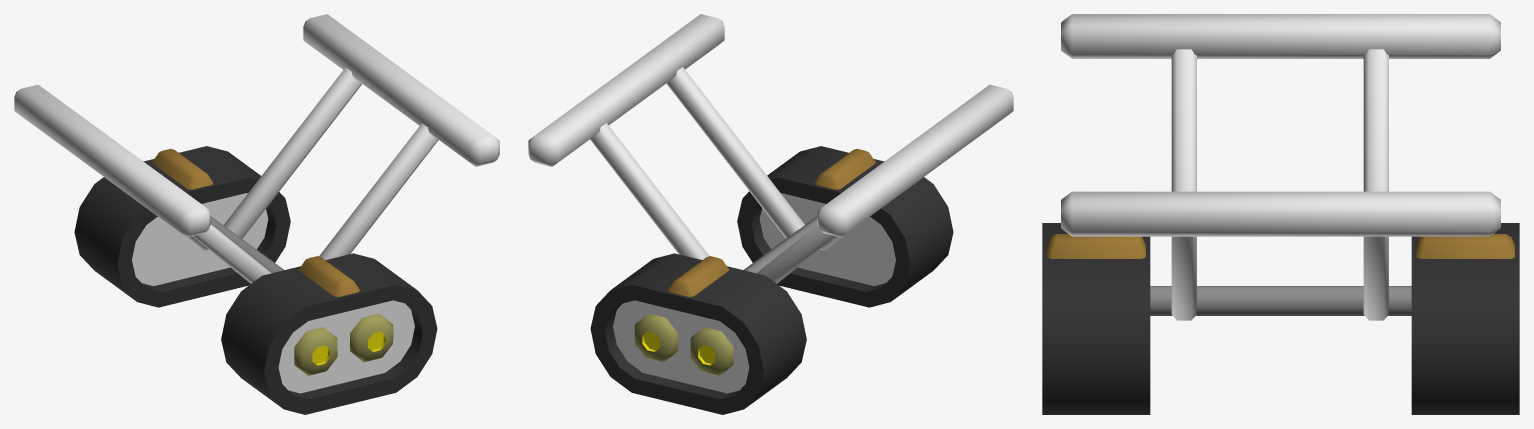
Rendered from caterpillar_1.fbx.
3 views of the same model, side by side, from view 1: azimuth 30°, elevation 25°; view 2: azimuth 150°, elevation 25°; view 3: azimuth 270°, elevation 25° (orthographic). The views are drawn at different scales.
Visible parts, largest first — view 1: caterpillar_1; view 2: caterpillar_1; view 3: caterpillar_1.
Boxes of the visible parts, box(x1,y1,x2,y2) form: caterpillar_1: box(14, 14, 499, 414); caterpillar_1: box(528, 14, 1013, 414); caterpillar_1: box(1042, 14, 1519, 414).
Size of the model in its own units: 199 by 132 by 205.
